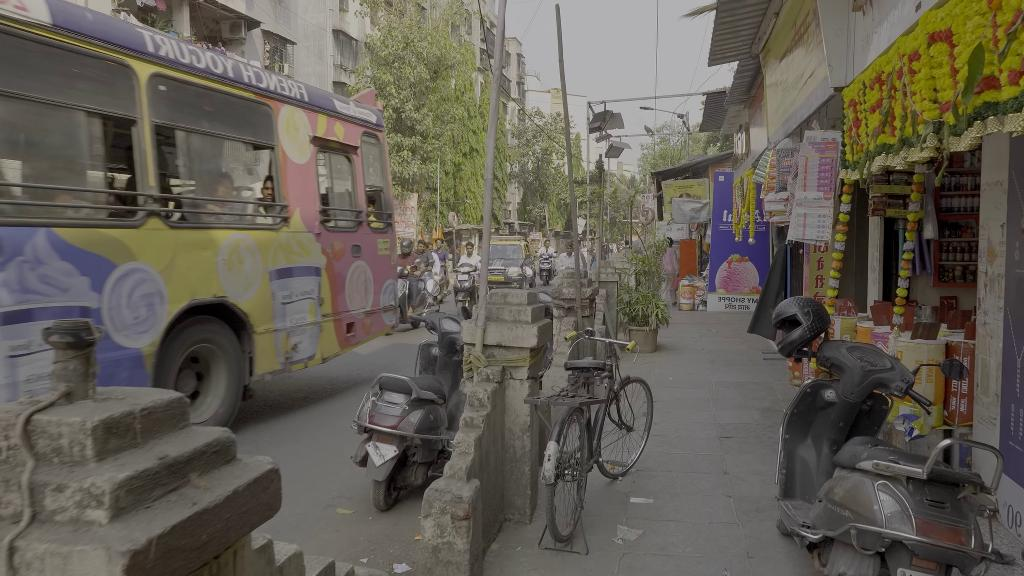garbage: (609, 521, 644, 552), (626, 497, 653, 503)
